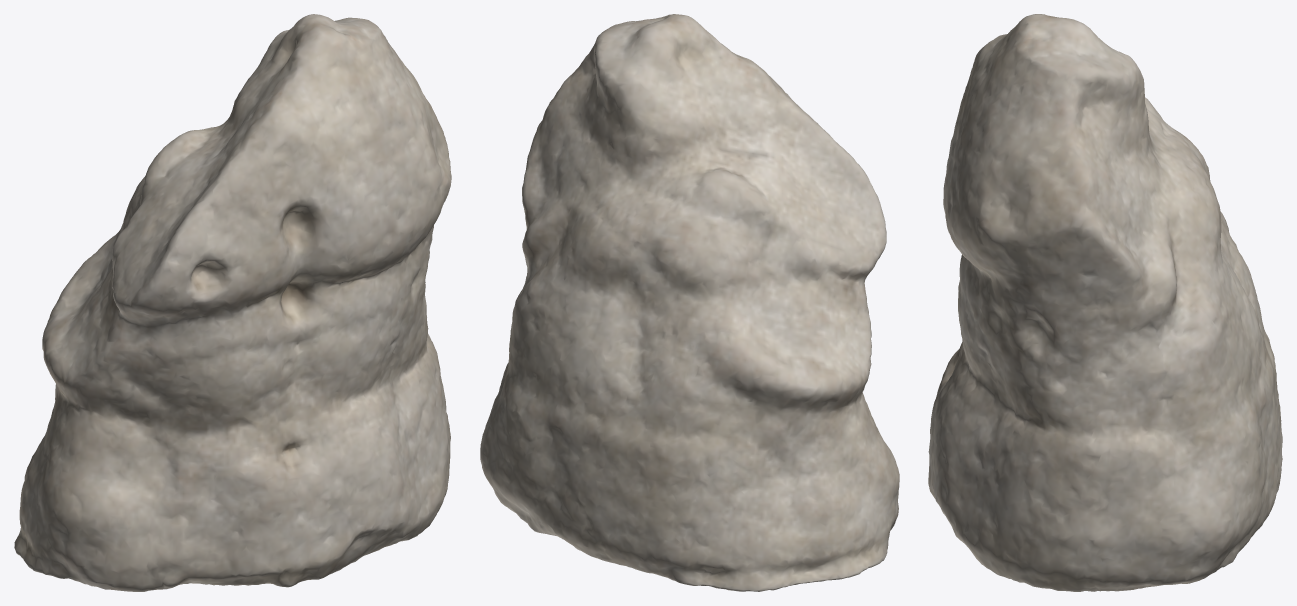
File: 02_ESC_hercules.glb
The picture shows the model from 3 angles, left to right: view 1: azimuth 30°, elevation 25°; view 2: azimuth 150°, elevation 25°; view 3: azimuth 270°, elevation 25°; orthographic projection. The views are drawn at different scales.
Visible parts, largest first — view 1: HERCULES_LP; view 2: HERCULES_LP; view 3: HERCULES_LP.
Boxes of the visible parts, x1,y1,x2,y2 form: HERCULES_LP: (14,14,451,591); HERCULES_LP: (480,14,899,591); HERCULES_LP: (928,14,1282,591).
Size of the model in its own units: 0.6464 by 0.7805 by 0.4853.
1 material, 1 textured.
